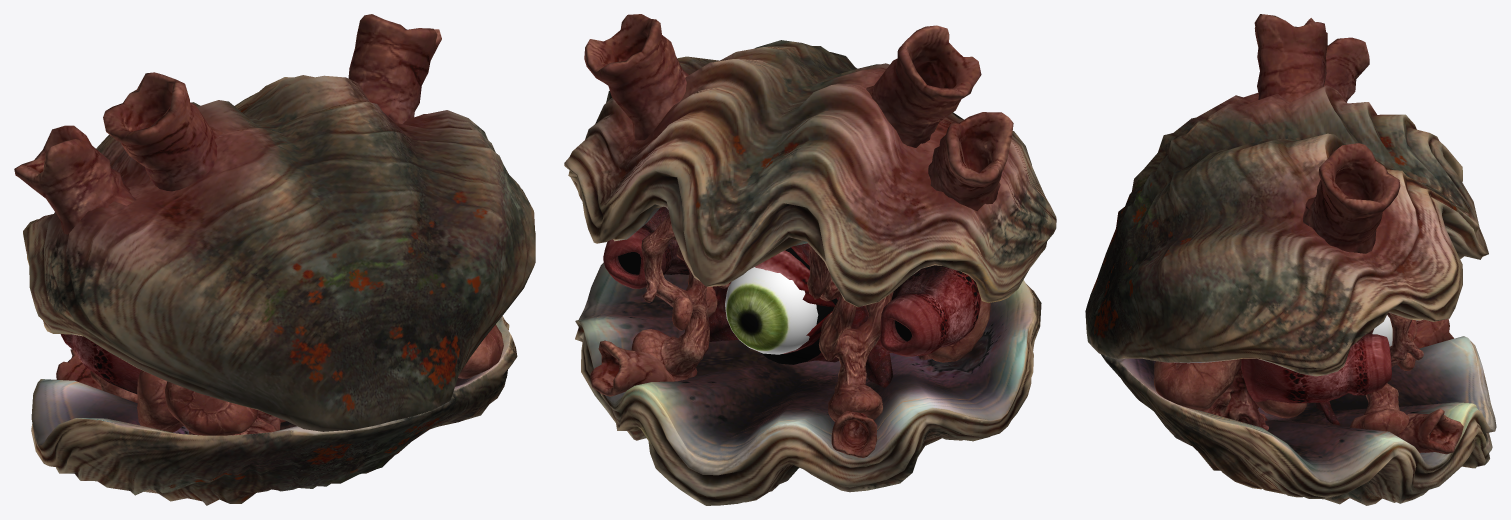
File: bacoon.glb
3 views of the same model, side by side, from view 1: azimuth 30°, elevation 25°; view 2: azimuth 150°, elevation 25°; view 3: azimuth 270°, elevation 25° (orthographic). The views are drawn at different scales.
Visible parts, largest first — view 1: topshell, base, turret05, turret06, turret04, body01, turret03, body02, turret08; view 2: topshell, base, turret05, turret06, turret03, stalk01, stalk02, turret01-arms, turret04, eyebase, turret02, turret07 (+3 smaller); view 3: topshell, base, turret06, turret02, body02, turret05, stalk01, turret04, turret07, turret08.
Part boxes in pixels (left/top/right/bottom): topshell: left=23, top=75, right=535, bottom=431; base: left=31, top=316, right=517, bottom=505; turret05: left=103, top=72, right=222, bottom=191; turret06: left=348, top=14, right=441, bottom=123; turret04: left=14, top=125, right=136, bottom=234; body01: left=137, top=370, right=285, bottom=435; turret03: left=60, top=334, right=141, bottom=394; body02: left=455, top=324, right=503, bottom=386; turret08: left=56, top=349, right=101, bottom=389; topshell: left=564, top=40, right=1056, bottom=307; base: left=575, top=262, right=1041, bottom=505; turret05: left=866, top=25, right=981, bottom=147; turret06: left=584, top=14, right=688, bottom=140; turret03: left=880, top=265, right=980, bottom=356; stalk01: left=631, top=214, right=729, bottom=381; stalk02: left=807, top=243, right=893, bottom=421; turret01-arms: left=725, top=267, right=818, bottom=354; turret04: left=928, top=112, right=1013, bottom=211; eyebase: left=708, top=243, right=893, bottom=388; turret02: left=603, top=206, right=689, bottom=289; turret07: left=590, top=340, right=674, bottom=396; topshell: left=1085, top=85, right=1488, bottom=376; base: left=1101, top=320, right=1496, bottom=505; turret06: left=1303, top=143, right=1400, bottom=253; turret02: left=1241, top=334, right=1391, bottom=403; body02: left=1154, top=359, right=1306, bottom=430; turret05: left=1254, top=14, right=1327, bottom=102; stalk01: left=1350, top=312, right=1423, bottom=436; turret04: left=1304, top=18, right=1369, bottom=101; turret07: left=1399, top=408, right=1463, bottom=454; turret08: left=1413, top=318, right=1453, bottom=348.
Bounding box in the file's own units: 181 × 171 × 157.
Materials: 6 (5 with a texture image).
